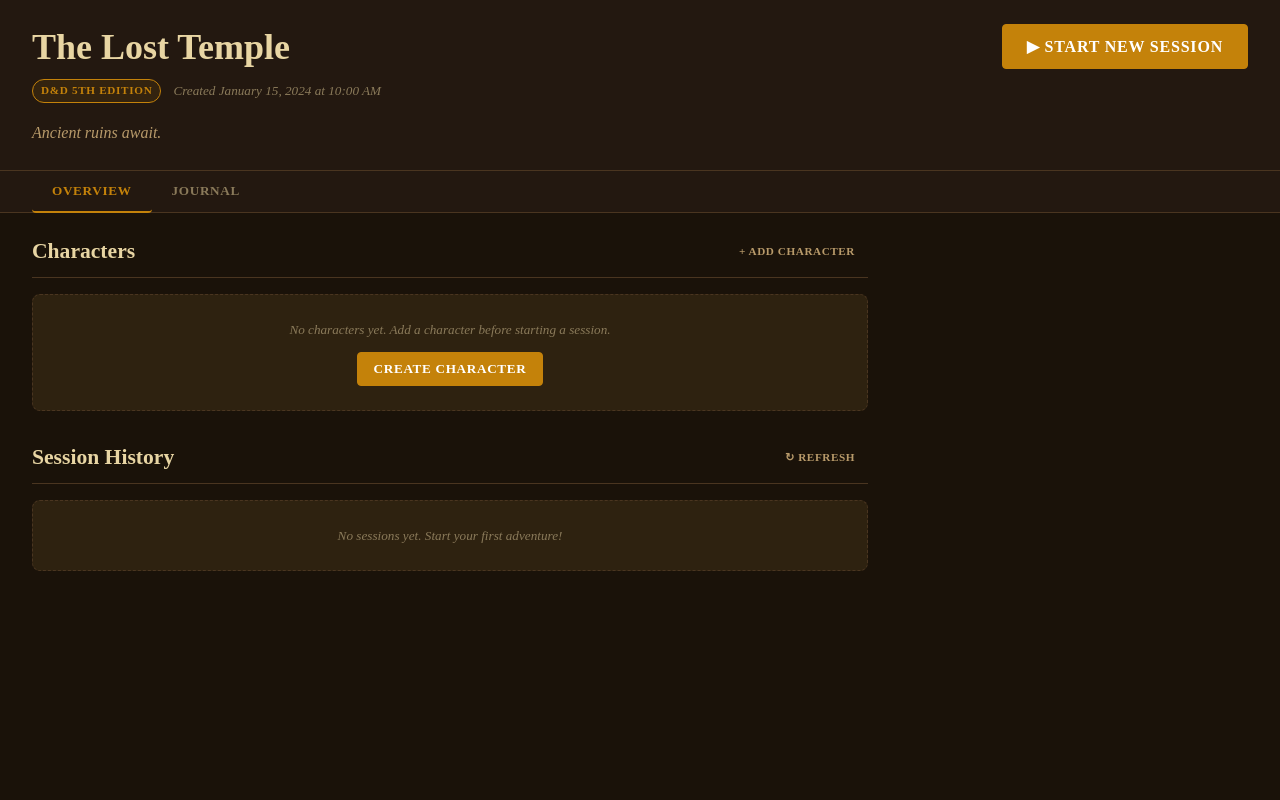
Test case: CampaignDetail › "Start New Session" flow › shows an error banner when startSession rejects
Click the button "▶ Start New Session" at (1125, 46), box [1002,24,1248,69]
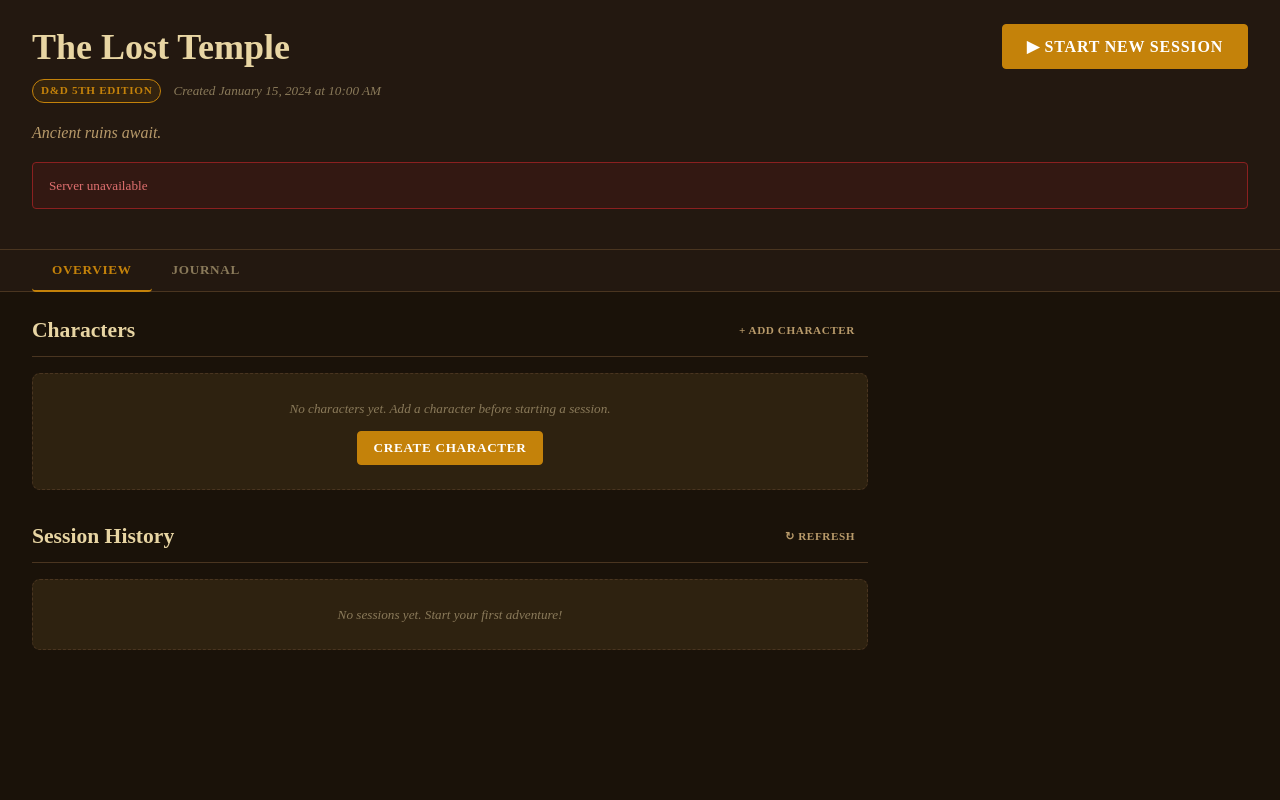
Expected: the text "Server unavailable" is shown, [32,162,1248,209]
